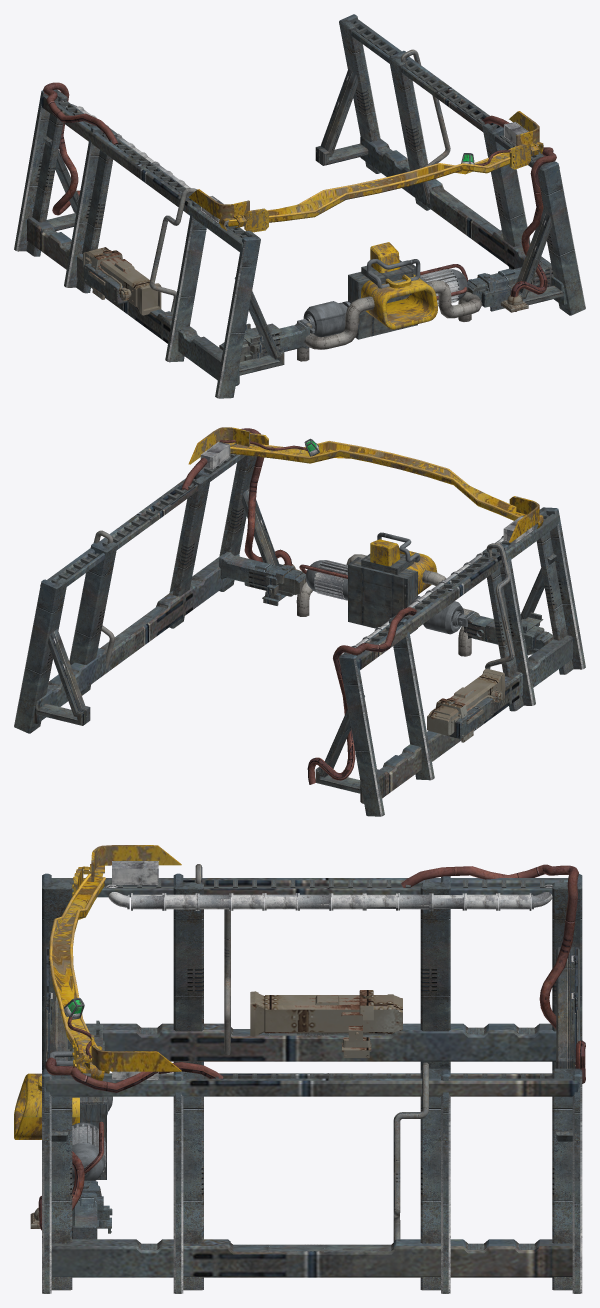
Rendered from static.glb.
The picture shows the model from 3 angles, top to bottom: view 1: azimuth 30°, elevation 25°; view 2: azimuth 150°, elevation 25°; view 3: azimuth 270°, elevation 25°; orthographic projection. The views are drawn at different scales.
Parts seen in each view (by area): view 1: Cube_1_7, Cube_1_6, Boole_2, Sweep_20, Cube_1_8, device, Extrude, Extrude_2, Sweep_9, Sweep_19, device_1, Sweep_15 (+14 smaller); view 2: Cube_1_7, Cube_1_6, Boole_2, Sweep_20, Cube_1_8, Cube_2_3, Extrude, device, device_1, Sweep_19, Cube_2_4, Cube_1 (+11 smaller); view 3: Boole_2, Cube_1_6, Cube_1_7, Cube_1_8, device, Sweep_20, Cube_2_4, Sweep_19, Cube_1, Extrude, Sweep_15, Extrude_2 (+9 smaller).
Boxes of the visible parts, x1,y1,x2,y2 form: Cube_1_7: (14, 14, 585, 398); Cube_1_6: (64, 50, 530, 362); Boole_2: (27, 136, 567, 385); Sweep_20: (43, 63, 563, 375); Cube_1_8: (40, 19, 559, 251); device: (83, 247, 161, 315); Extrude: (228, 152, 509, 226); Extrude_2: (361, 274, 437, 329); Sweep_9: (297, 280, 482, 361); Sweep_19: (43, 82, 118, 215); device_1: (466, 260, 553, 311); Sweep_15: (481, 115, 556, 311); Cube_1_7: (14, 455, 585, 816); Cube_1_6: (69, 470, 535, 780); Boole_2: (32, 554, 572, 803); Sweep_20: (36, 481, 556, 793); Cube_1_8: (40, 443, 559, 669); Cube_2_3: (348, 557, 417, 634); Extrude: (230, 442, 526, 520); device: (427, 668, 504, 742); device_1: (219, 551, 306, 605); Sweep_19: (307, 607, 416, 784); Cube_2_4: (66, 454, 504, 642); Cube_1: (188, 427, 539, 542); Boole_2: (44, 1023, 580, 1277); Cube_1_6: (173, 873, 450, 1293); Cube_1_7: (42, 873, 582, 1293); Cube_1_8: (45, 878, 579, 1096); device: (250, 990, 402, 1057); Sweep_20: (44, 947, 579, 1141); Cube_2_4: (71, 888, 552, 1078); Sweep_19: (401, 864, 585, 1083); Cube_1: (91, 845, 181, 1071); Extrude: (52, 873, 109, 1073); Sweep_15: (38, 1057, 223, 1230); Extrude_2: (14, 1073, 79, 1139).
Bounding box in the file's own units: 6.02 × 2.7 × 6.03.
10 materials, 10 textured.
